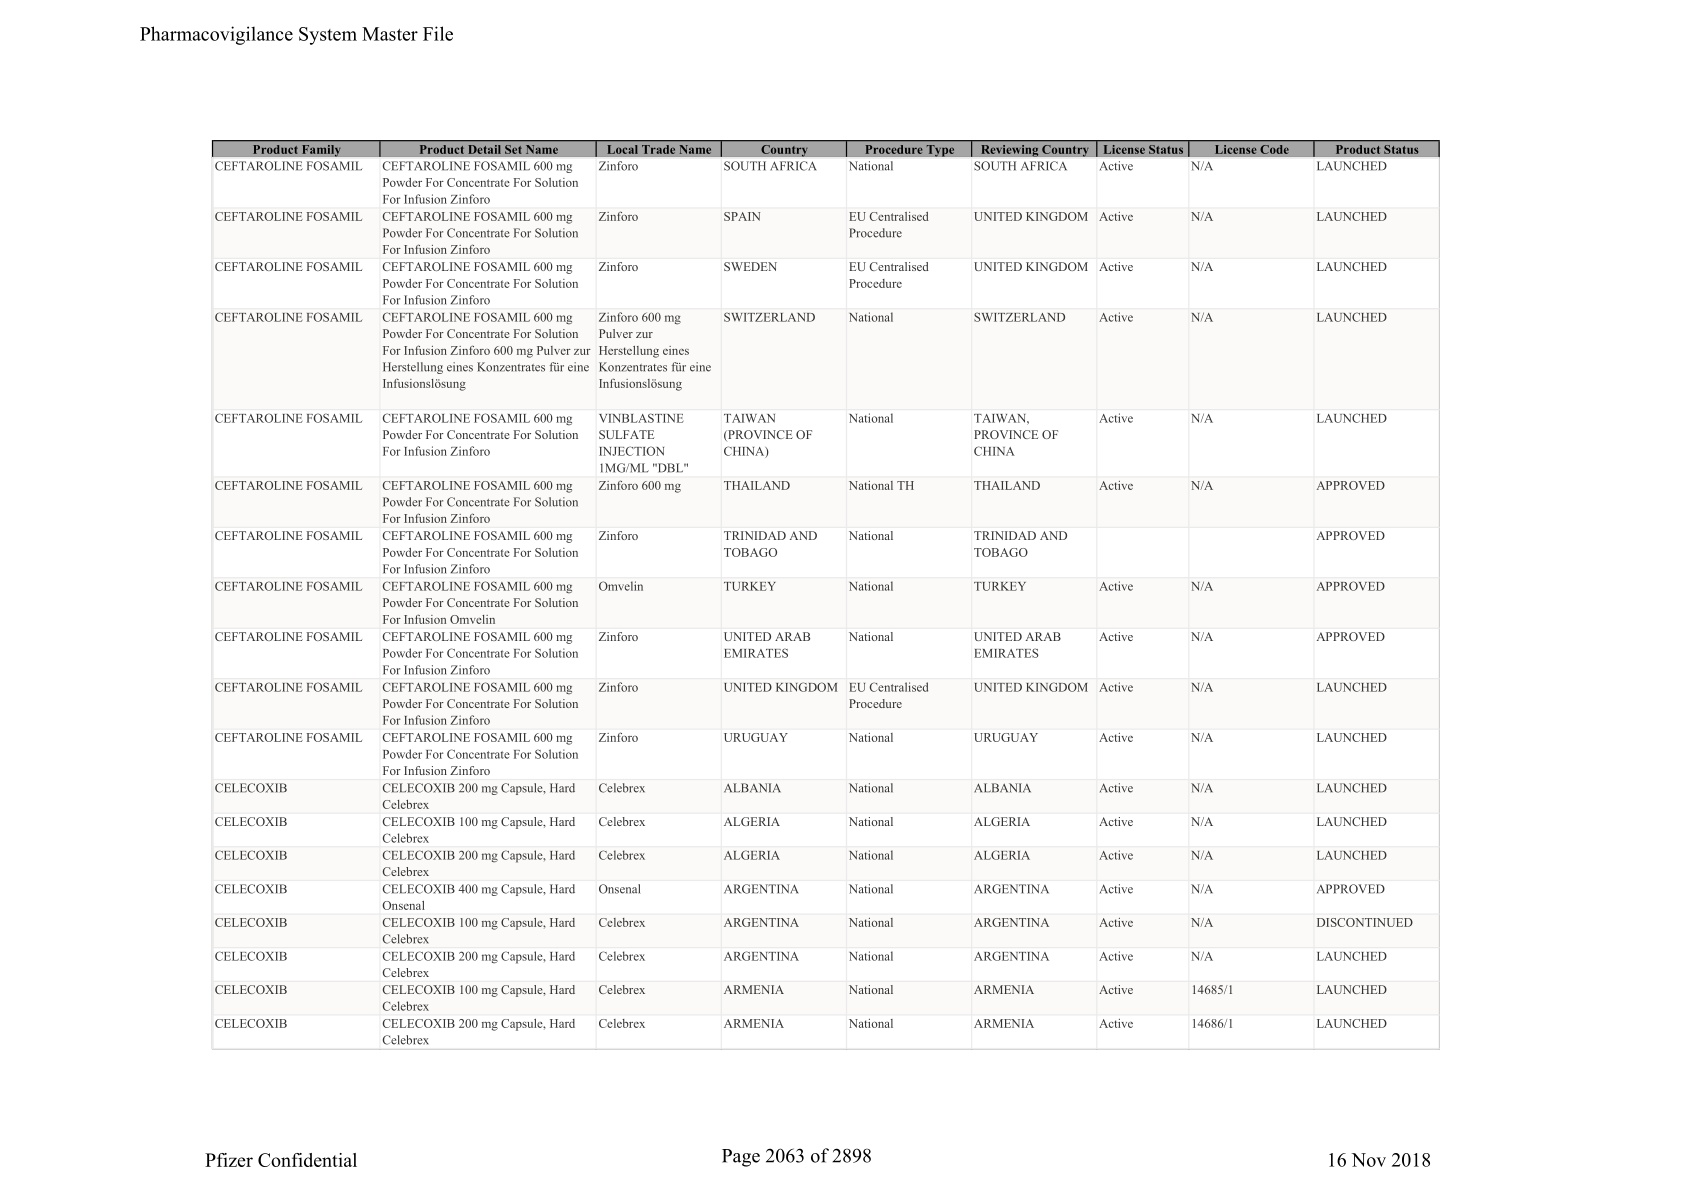full_lined: (211, 139, 1441, 1052)
